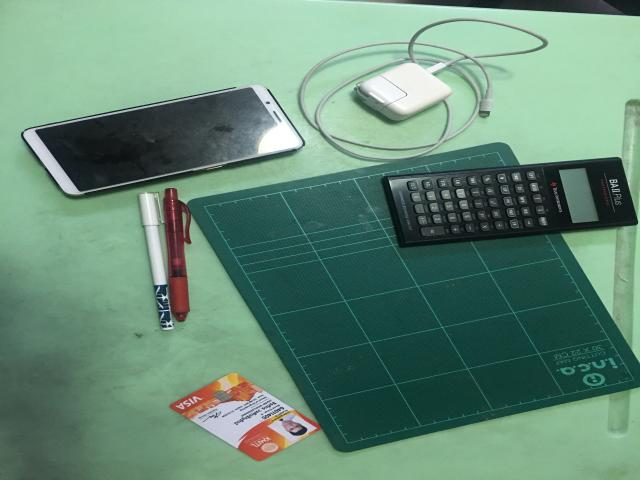Mobile phone: (20, 85, 305, 200)
Pen: (140, 189, 192, 329)
wire: (300, 18, 548, 160)
